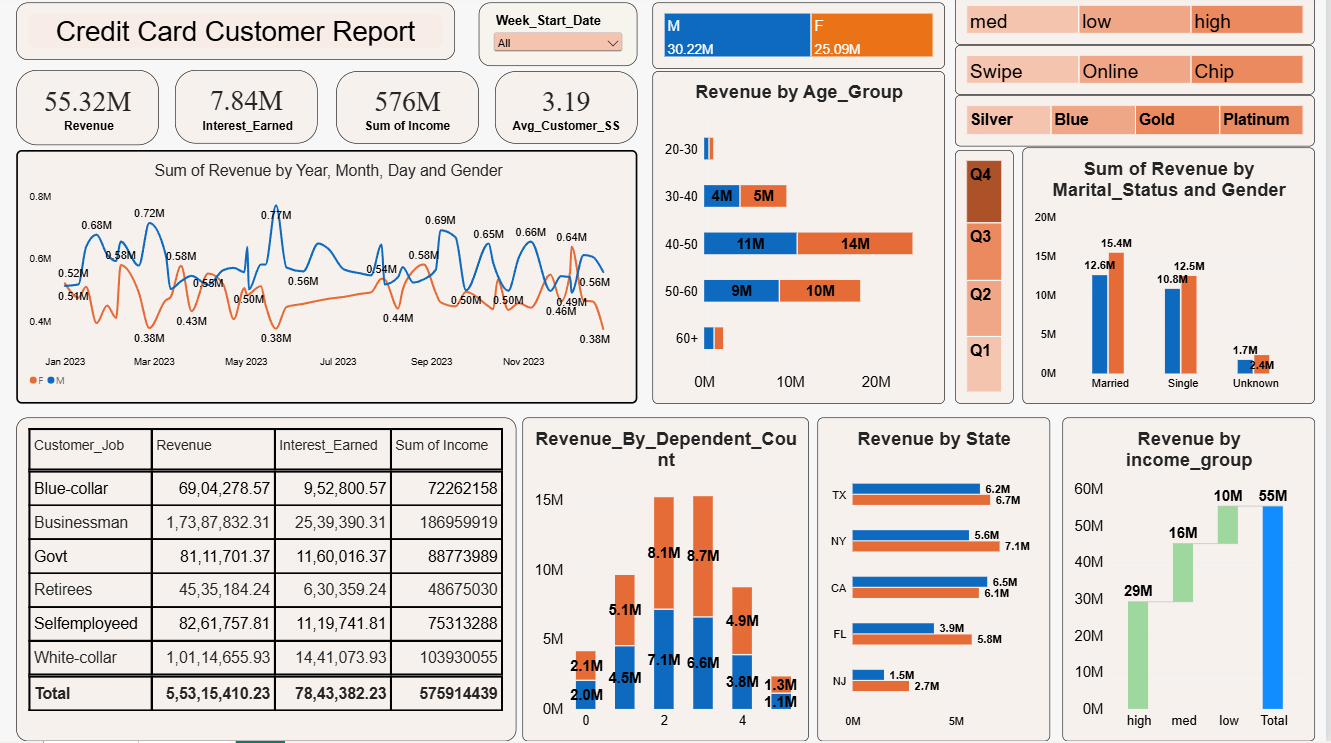

The dashboard page shown, as its layout file describes it:
{"tool":"powerbi","page":{"name":"Page 2","canvas":[1920,1080],"ordinal":1},"visuals":[{"type":"card","fields":{"Values":["Sum(credit_card.Revenue)"]},"box":[23.5,108.6,206.3,108.6],"z":0},{"type":"card","fields":{"Values":["Sum(customer.Income)"]},"box":[486.8,110.4,206.3,105],"z":1000},{"type":"card","fields":{"Values":["Sum(credit_card.Interest_Earned)"]},"box":[253.4,108.6,206.3,106.8],"z":2000},{"type":"card","fields":{"Values":["Avg(customer.Cust_Satisfaction_Score)"]},"box":[716.6,110.4,206.3,105],"z":3000},{"type":"treemap","fields":{"Group":["credit_card.Qtr"],"Values":["Avg(credit_card.Client_Num)"]},"box":[1382.6,224.4,85.1,367.4],"z":4000},{"type":"treemap","fields":{"Group":["credit_card.Card_Category"],"Values":["Avg(credit_card.Client_Num)"]},"box":[1382.6,144.8,521.2,74.2],"z":5000},{"type":"treemap","fields":{"Group":["customer.Incomgroup"],"Values":["Avg(credit_card.Client_Num)"]},"box":[1382.6,0,521.2,72.4],"z":6000},{"type":"tableEx","fields":{"Values":["customer.Customer_Job","Sum(credit_card.Revenue)","credit_card.Interest_Earned","Sum(customer.Income)"]},"box":[23.5,611.7,723.9,468.7],"z":7000},{"type":"slicer","fields":{"Values":["credit_card.Week_Start_Date"]},"box":[693.1,10.9,229.8,92.3],"z":8000},{"type":"lineChart","fields":{"Y":["Sum(credit_card.Revenue)"],"Series":["customer.Gender"],"Category":["credit_card.Week_Start_Date.Variation.Date Hierarchy.Year","credit_card.Week_Start_Date.Variation.Date Hierarchy.Month","credit_card.Week_Start_Date.Variation.Date Hierarchy.Day"]},"box":[23.5,224.4,899.4,367.4],"z":9000},{"type":"treemap","fields":{"Group":["customer.Gender"],"Values":["Sum(credit_card.Revenue)"]},"box":[944.6,10.9,423.5,95.9],"z":10000},{"type":"waterfallChart","title":" Revenue by income_group","fields":{"Category":["customer.Incomgroup"],"Y":["Sum(credit_card.Revenue)"]},"box":[1538.2,611.7,365.6,468.7],"z":11000},{"type":"barChart","title":" Revenue by Age_Group","fields":{"Category":["customer.Agegroup"],"Y":["Sum(credit_card.Revenue)"],"Series":["customer.Gender"]},"box":[944.6,110.4,423.5,481.4],"z":12000},{"type":"lineStackedColumnComboChart","title":"Revenue_By_Dependent_Count","fields":{"Category":["customer.Dependent_Count"],"Y":["Sum(credit_card.Revenue)"],"Series":["customer.Gender"]},"box":[756.4,611.7,414.4,468.7],"z":13000},{"type":"clusteredBarChart","title":" Revenue by State","fields":{"Category":["customer.state_cd"],"Y":["Sum(credit_card.Revenue)"],"Series":["customer.Gender"]},"box":[1183.5,611.7,336.6,468.7],"z":14000},{"type":"clusteredColumnChart","fields":{"Category":["customer.Marital_Status"],"Y":["Sum(credit_card.Revenue)"],"Series":["customer.Gender"]},"box":[1480.3,220.8,423.5,371],"z":15000},{"type":"treemap","fields":{"Group":["credit_card.Use Chip"],"Values":["Avg(credit_card.Client_Num)"]},"box":[1382.6,72.4,521.2,72.4],"z":16000},{"type":"shape","title":"Credit Card Transaction Report","box":[23.5,10.9,635.2,83.2],"z":17000}]}

Visuals, with their boxes in screenshot pixels (x1, y1, x2, y2), scaled from the page's 1920x1080 canvas onto the 1331x743 screenshot:
card - Sum(credit_card.Revenue): 16:75:159:149
card - Sum(customer.Income): 337:76:480:148
card - Sum(credit_card.Interest_Earned): 176:75:319:148
card - Avg(customer.Cust_Satisfaction_Score): 497:76:640:148
treemap - credit_card.Qtr x Avg(credit_card.Client_Num): 958:154:1017:407
treemap - credit_card.Card_Category x Avg(credit_card.Client_Num): 958:100:1320:151
treemap - customer.Incomgroup x Avg(credit_card.Client_Num): 958:0:1320:50
tableEx - customer.Customer_Job x Sum(credit_card.Revenue): 16:421:518:742
slicer - credit_card.Week_Start_Date: 480:7:640:71
lineChart - Sum(credit_card.Revenue) x customer.Gender: 16:154:640:407
treemap - customer.Gender x Sum(credit_card.Revenue): 655:7:948:73
" Revenue by income_group" waterfallChart: 1066:421:1320:742
" Revenue by Age_Group" barChart: 655:76:948:407
"Revenue_By_Dependent_Count" lineStackedColumnComboChart: 524:421:812:742
" Revenue by State" clusteredBarChart: 820:421:1054:742
clusteredColumnChart - customer.Marital_Status x Sum(credit_card.Revenue): 1026:152:1320:407
treemap - credit_card.Use Chip x Avg(credit_card.Client_Num): 958:50:1320:100
"Credit Card Transaction Report" shape: 16:7:457:65
